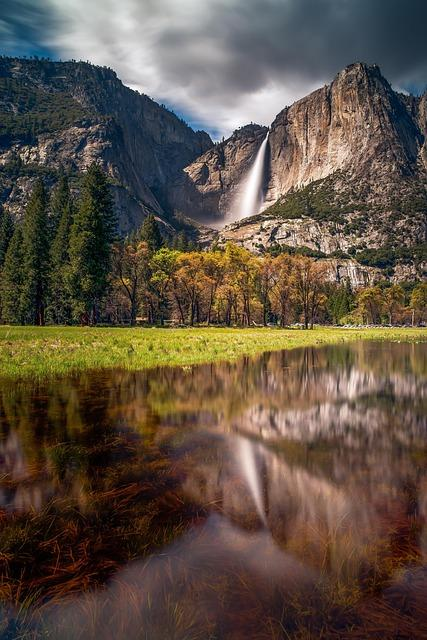Non_Gorille: (23, 65, 427, 556)
